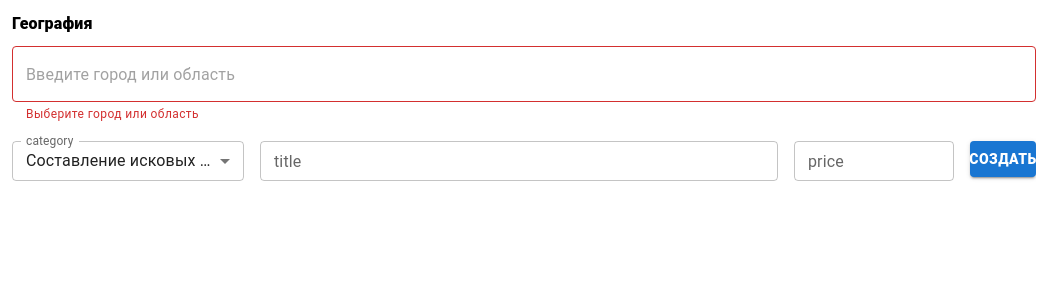
Test: ServicesAdminClient › shows API error when create fails
Type "Каза" into the dropdown named "Добавить город или область" at (524, 74), box top-left (21, 55), bottom-right (1027, 93)
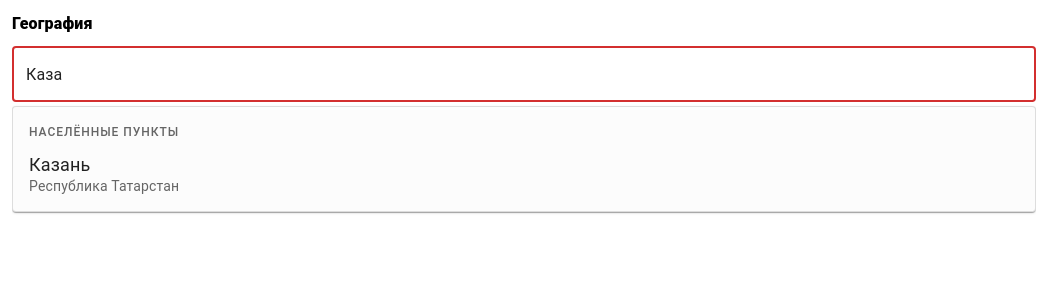
Click the option "Казань Республика Татарстан" at (60, 165), box top-left (29, 154), bottom-right (179, 194)
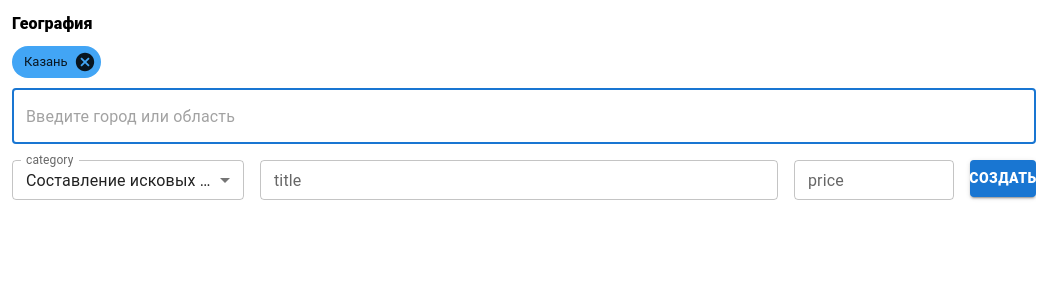
Click the button "Создать" at (1003, 178), box top-left (970, 160), bottom-right (1036, 196)
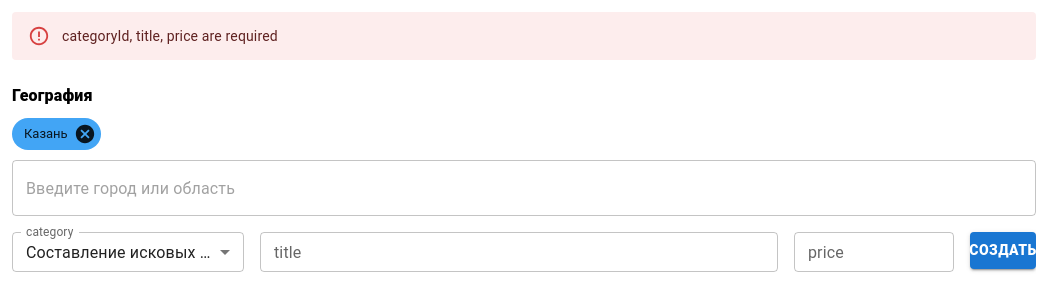
Expected: the text "categoryId, title, price are required" is shown, top-left (62, 28), bottom-right (278, 44)
